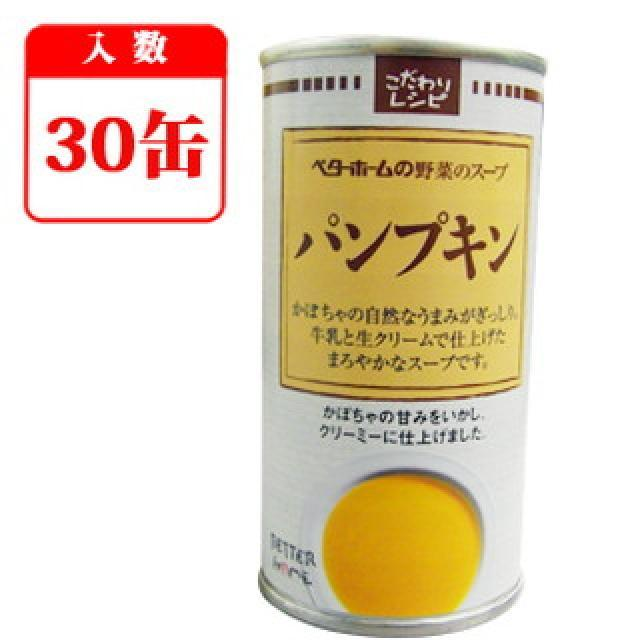can: (248, 36, 539, 634)
